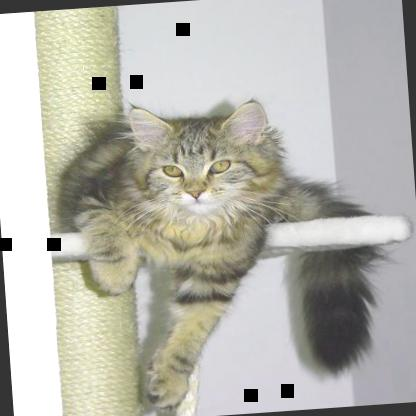cat: (72, 90, 386, 414)
